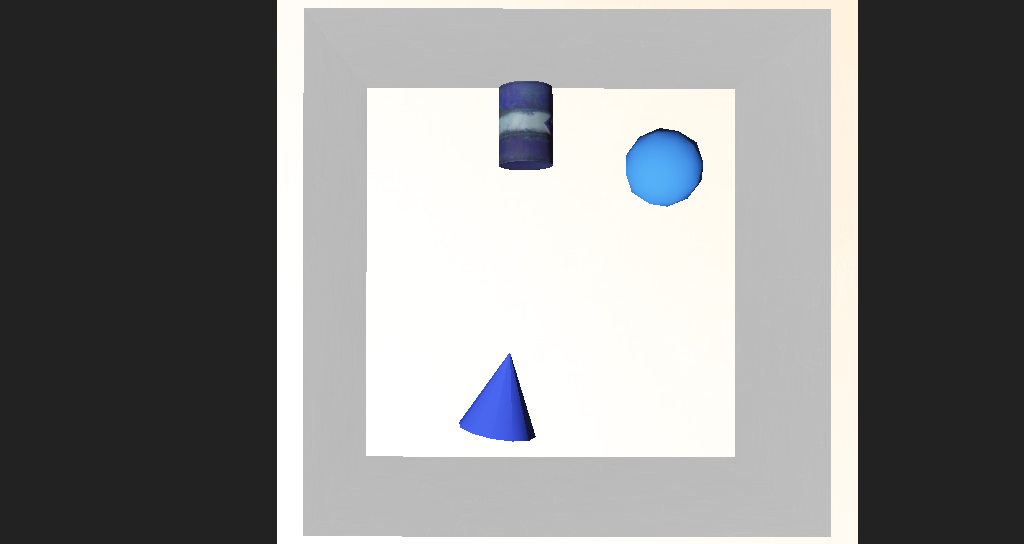cone: (461, 160, 509, 212)
cylinder: (428, 308, 502, 370)
sphere: (569, 188, 630, 231)
